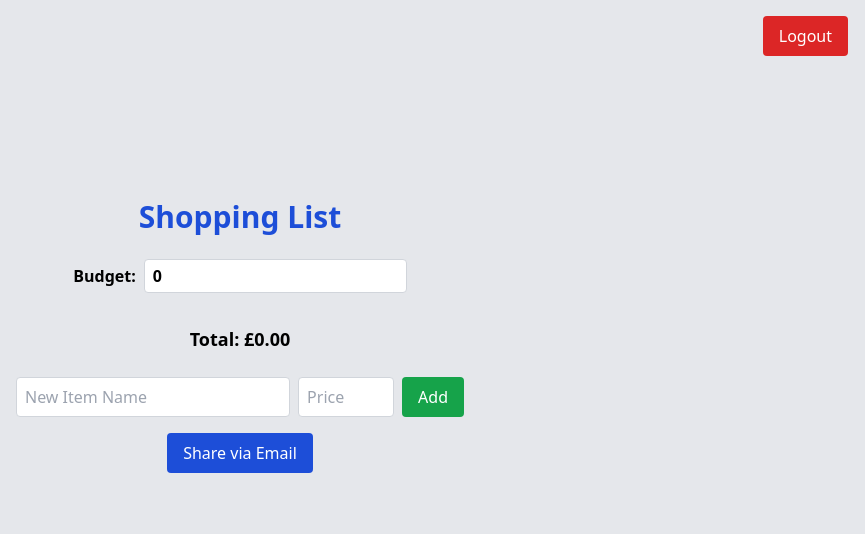
Scenario: shows warning when limit exceeded
The image size is (865, 534).
Step 1. Replace the text in the field with placeholder "Enter limit" with "5" → (275, 276), box [144,259,407,293]
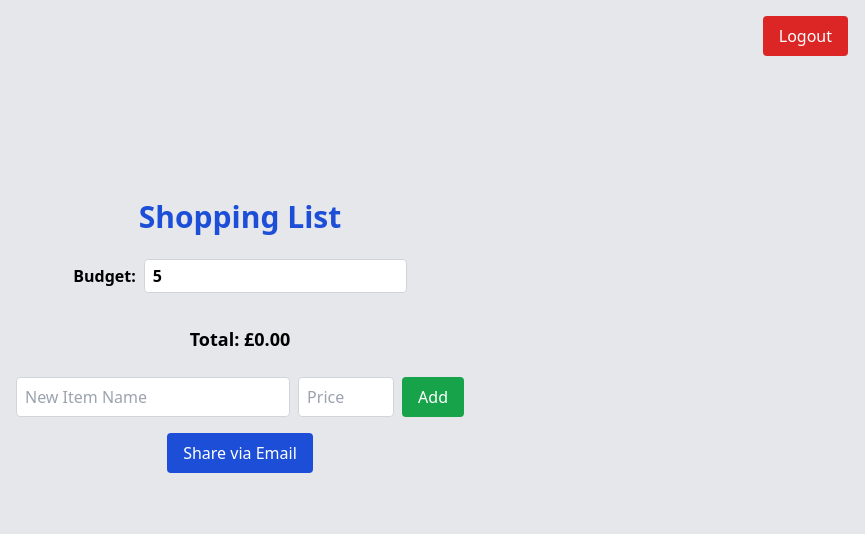
Step 2. Type "Cheese" into the field with placeholder "New Item Name" → (153, 397), box [16,377,290,417]
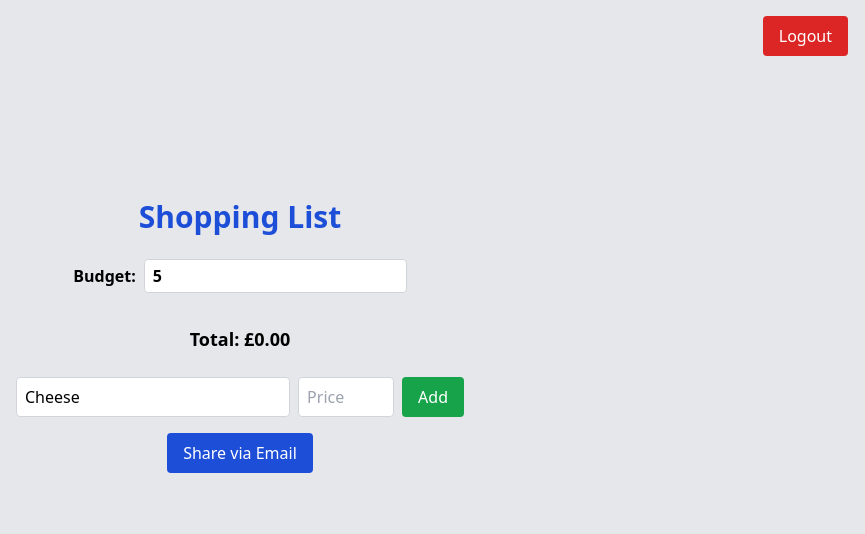
Step 3. Type "6" into the field with placeholder "Price" → (346, 397), box [298,377,394,417]
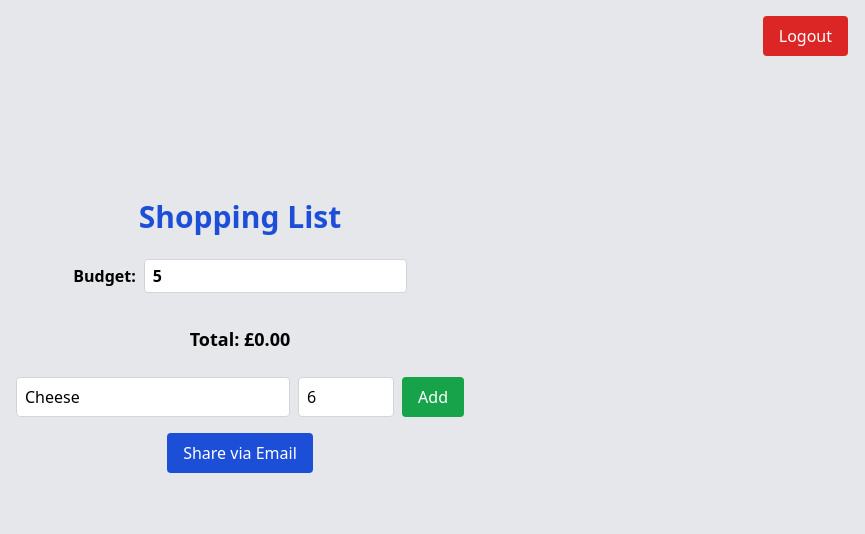
Step 4. Click the button "Add" → (433, 397), box [402,377,464,417]
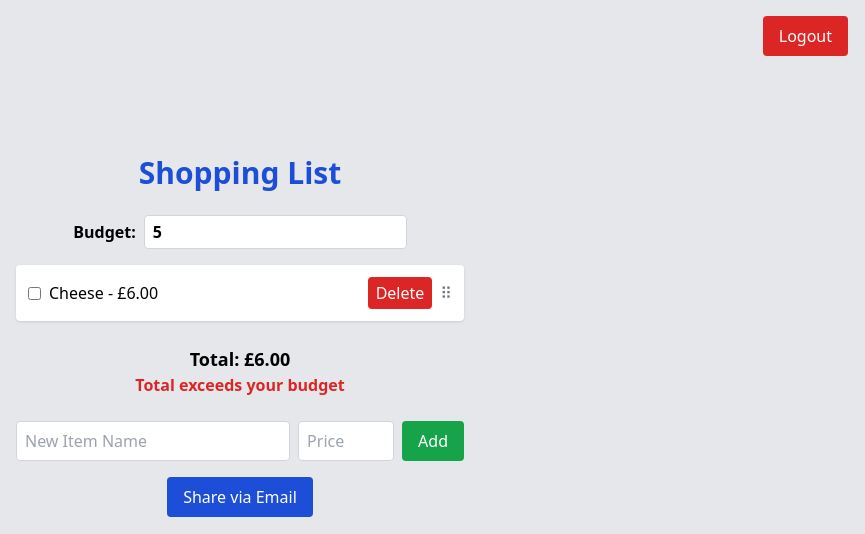
Check: the text "Total exceeds your budget" is shown, box [135,373,345,397]
